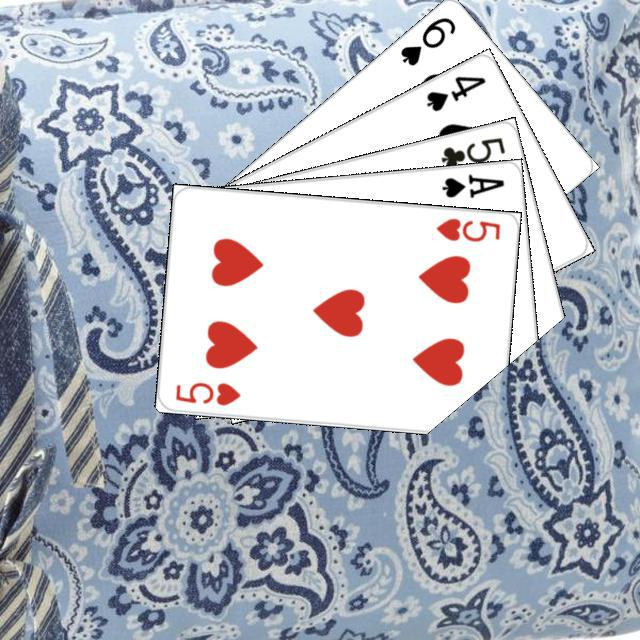4s: (421, 71, 488, 114)
5c: (436, 132, 507, 171)
5h: (431, 213, 502, 244), (170, 377, 242, 407)
6s: (395, 12, 458, 68)
As: (437, 169, 506, 200)
